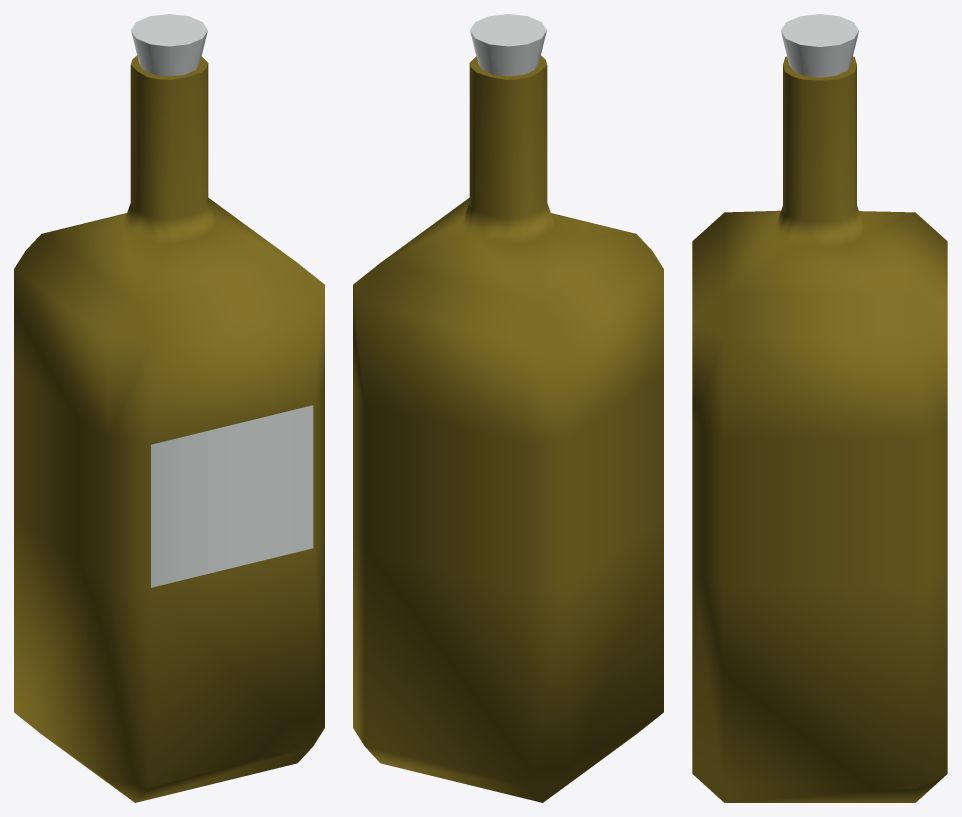
3 views of the same model, side by side, from view 1: azimuth 30°, elevation 25°; view 2: azimuth 150°, elevation 25°; view 3: azimuth 270°, elevation 25° (orthographic).
Parts seen in each view (by area): view 1: G:\FFXIV-MapTools\exports\g3f3\bgcommon\world\itm\040\bgpart (×2); view 2: G:\FFXIV-MapTools\exports\g3f3\bgcommon\world\itm\040\bgpart (×2); view 3: G:\FFXIV-MapTools\exports\g3f3\bgcommon\world\itm\040\bgpart (×2).
Boxes of the visible parts, x1=… form: G:\FFXIV-MapTools\exports\g3f3\bgcommon\world\itm\040\bgpart (×2): x1=14, y1=14, x2=324, y2=802; G:\FFXIV-MapTools\exports\g3f3\bgcommon\world\itm\040\bgpart (×2): x1=353, y1=14, x2=663, y2=802; G:\FFXIV-MapTools\exports\g3f3\bgcommon\world\itm\040\bgpart (×2): x1=692, y1=14, x2=947, y2=802.
Bounding box in the file's own units: 0.1192 × 0.3772 × 0.1192.
